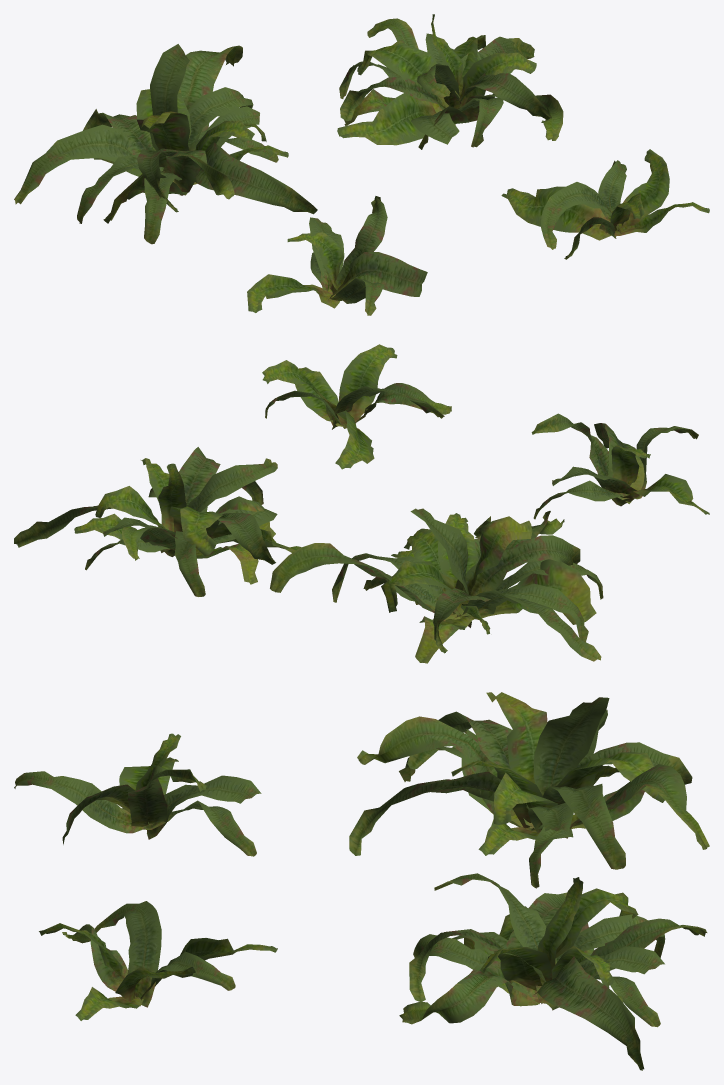
The model's file is fern_02.glb.
The picture shows the model from 3 angles, top to bottom: view 1: azimuth 30°, elevation 25°; view 2: azimuth 150°, elevation 25°; view 3: azimuth 270°, elevation 25°; orthographic projection. The views are drawn at different scales.
Parts seen in each view (by area): view 1: fern_02_b, fern_02_c, fern_02_d, fern_02_a; view 2: fern_02_b, fern_02_c, fern_02_d, fern_02_a; view 3: fern_02_b, fern_02_c, fern_02_a, fern_02_d.
Boxes of the visible parts, x1=… form: fern_02_b: x1=14, y1=44, x2=317, y2=244; fern_02_c: x1=337, y1=14, x2=563, y2=149; fern_02_d: x1=501, y1=149, x2=709, y2=259; fern_02_a: x1=247, y1=196, x2=427, y2=315; fern_02_b: x1=270, y1=508, x2=603, y2=663; fern_02_c: x1=14, y1=447, x2=300, y2=596; fern_02_d: x1=262, y1=344, x2=451, y2=469; fern_02_a: x1=531, y1=413, x2=709, y2=519; fern_02_b: x1=349, y1=692, x2=709, y2=888; fern_02_c: x1=399, y1=873, x2=707, y2=1070; fern_02_a: x1=14, y1=733, x2=261, y2=856; fern_02_d: x1=39, y1=901, x2=277, y2=1020.
Bounding box in the file's own units: 1.97 × 0.4277 × 1.72.
Materials: 1 (1 with a texture image).
